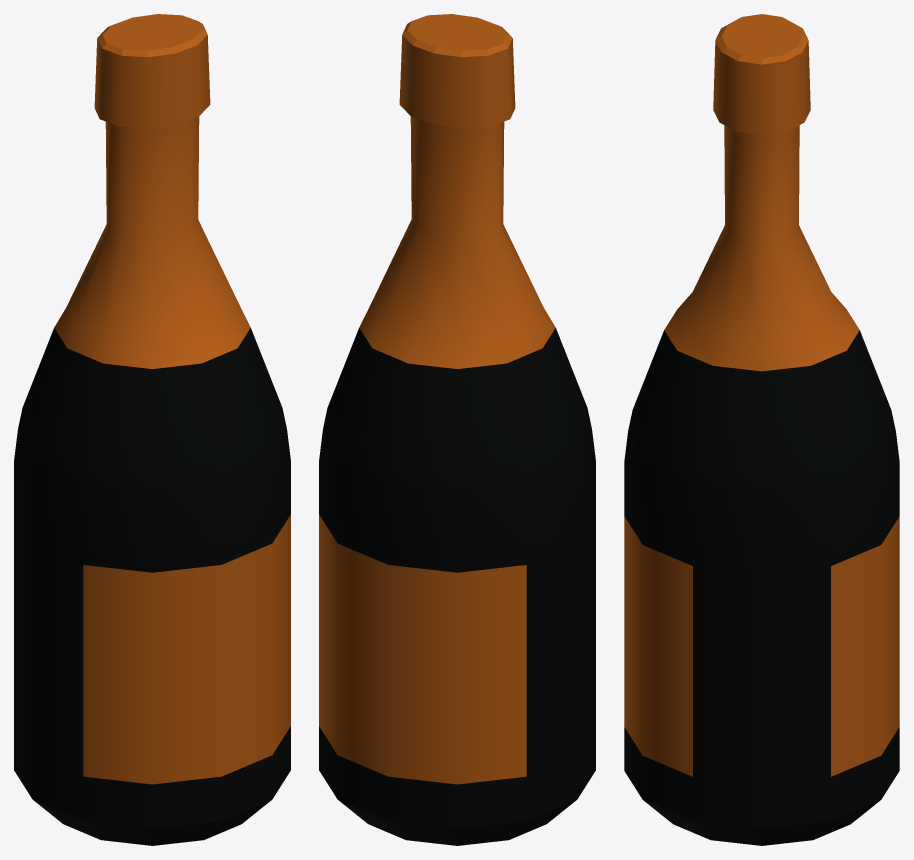
The model's file is champagne.FBX.
The picture shows the model from 3 angles, left to right: view 1: azimuth 30°, elevation 25°; view 2: azimuth 150°, elevation 25°; view 3: azimuth 270°, elevation 25°; orthographic projection.
Visible parts, largest first — view 1: ChamferCyl001; view 2: ChamferCyl001; view 3: ChamferCyl001.
Part boxes in pixels (x1,y1,x2,y2): ChamferCyl001: (14, 14, 290, 845); ChamferCyl001: (319, 14, 595, 845); ChamferCyl001: (624, 14, 899, 845).
Size of the model in its own units: 59.07 by 59.07 by 181.
